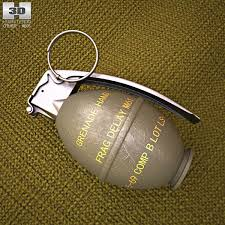bomb: (27, 30, 197, 190)
